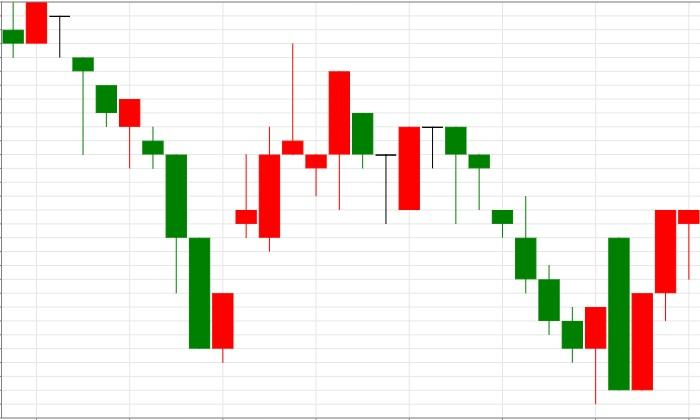hammer_rise: (422, 126, 653, 403)
